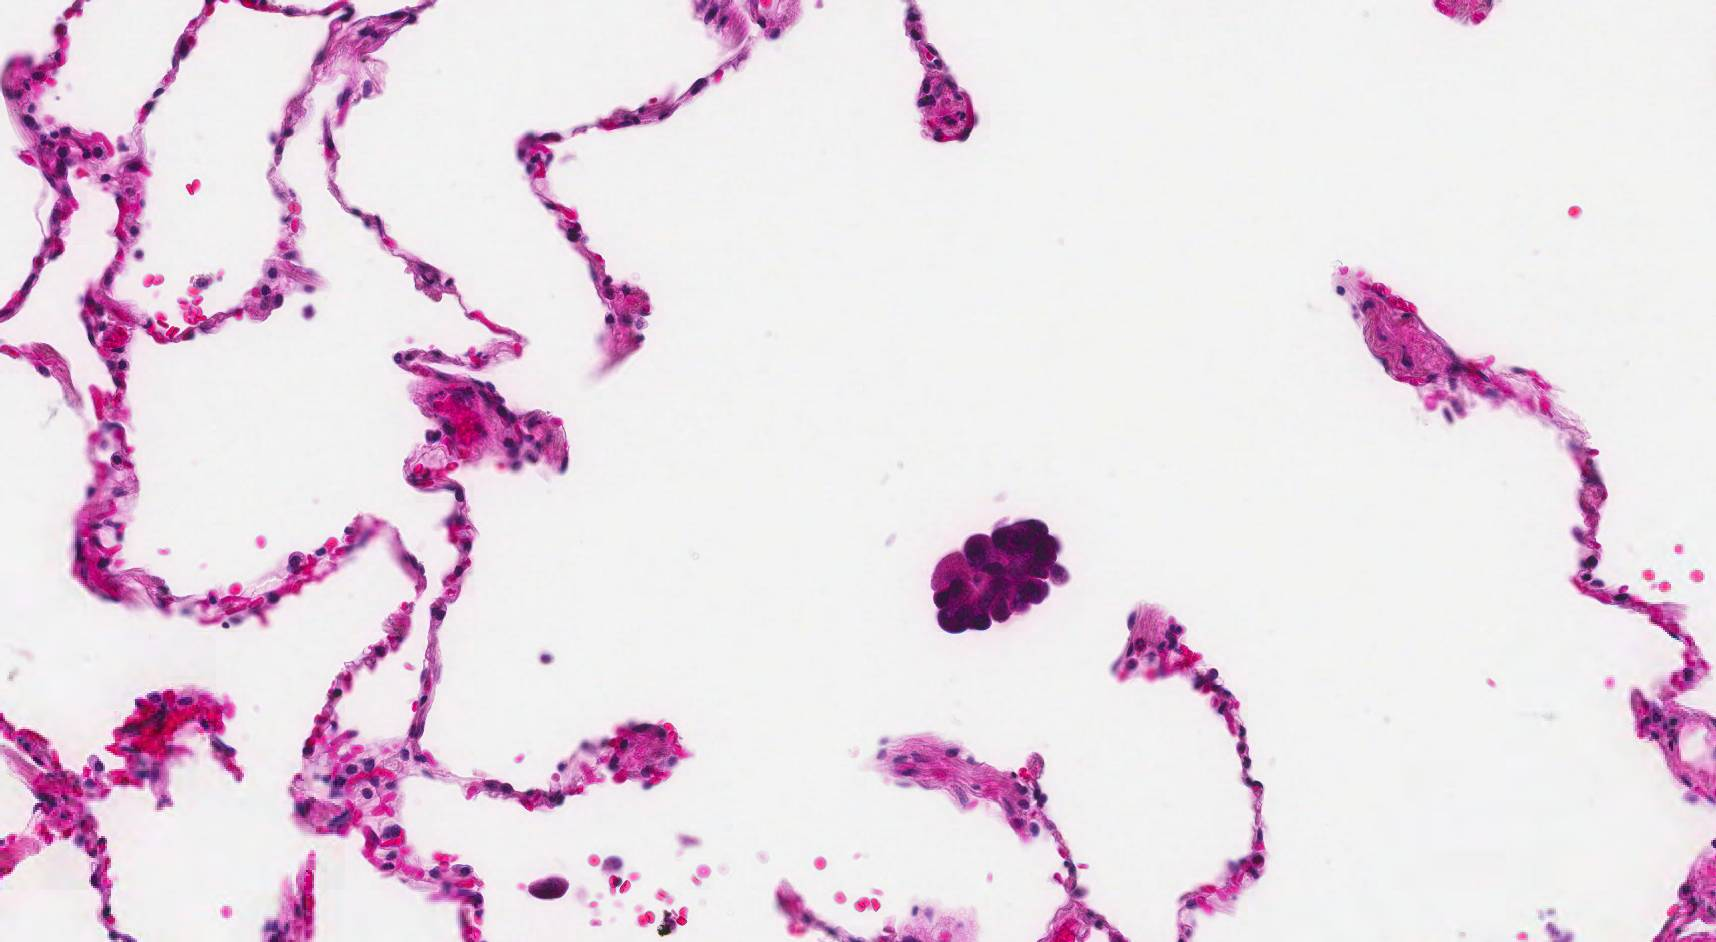stas: (929, 517, 1073, 635)
